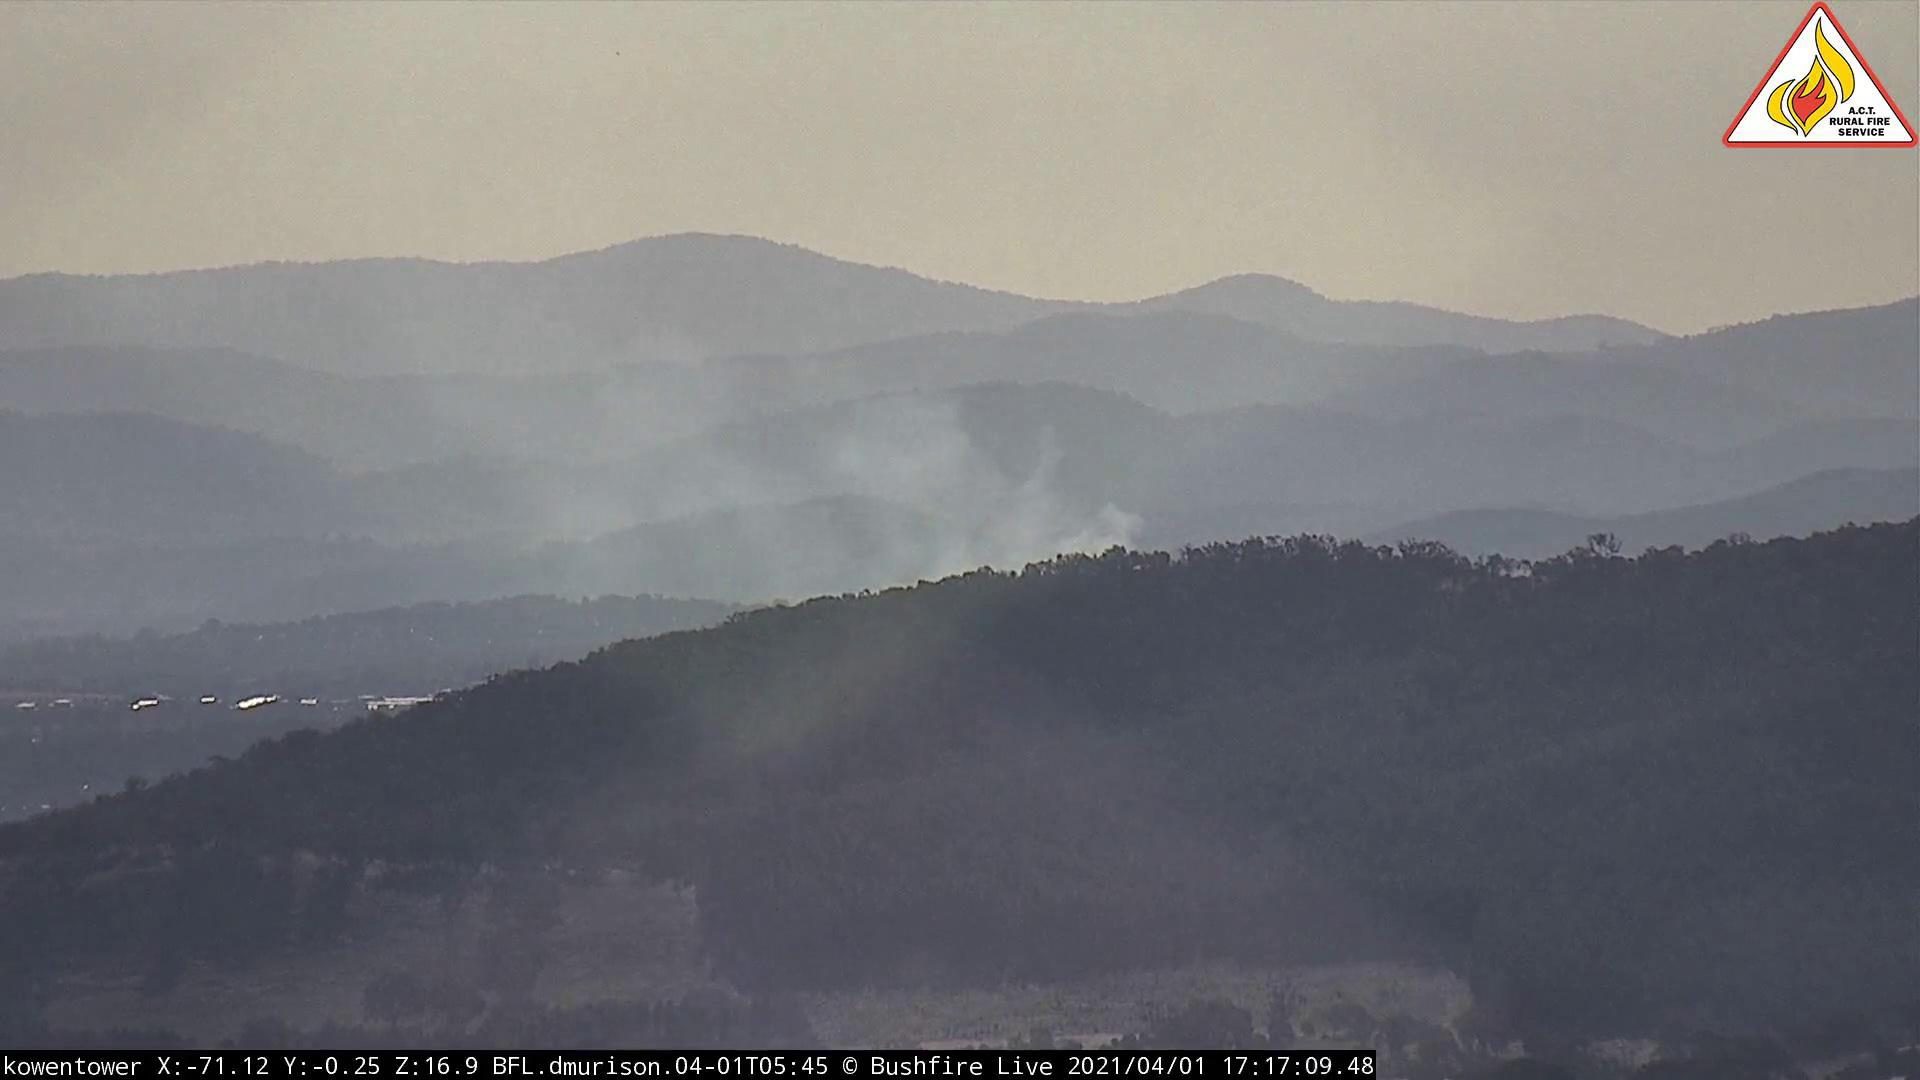instance_salient_object: (454, 324, 1162, 669)
